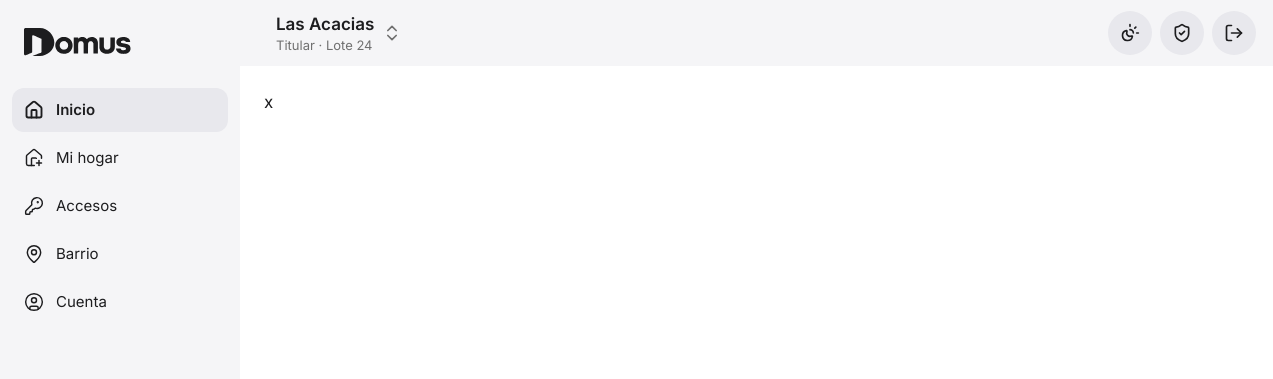
Test: AppShell › lets the user switch context from the top bar
Click the button named "Cambiar de contexto".
click(325, 24)  # box [264,8,1100,58]
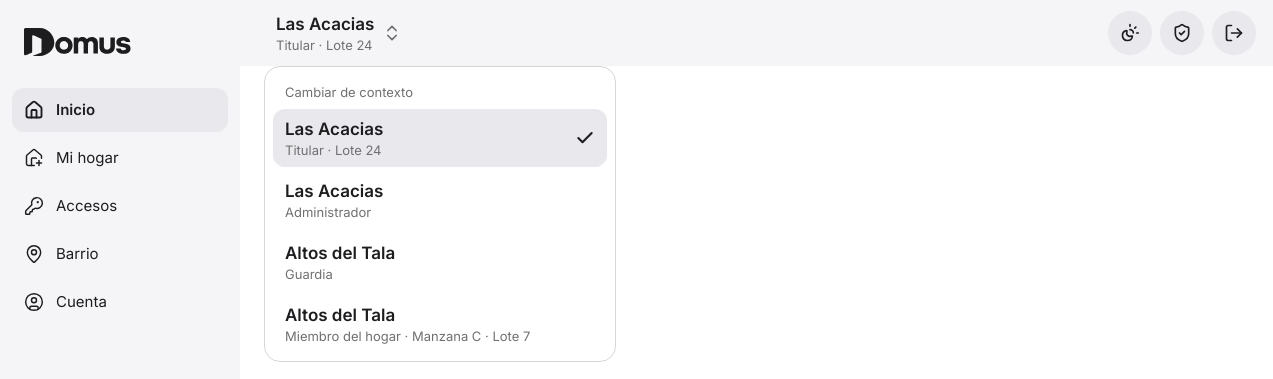
Click the button "Altos del Tala Guardia".
click(340, 253)  # box [273,233,607,291]
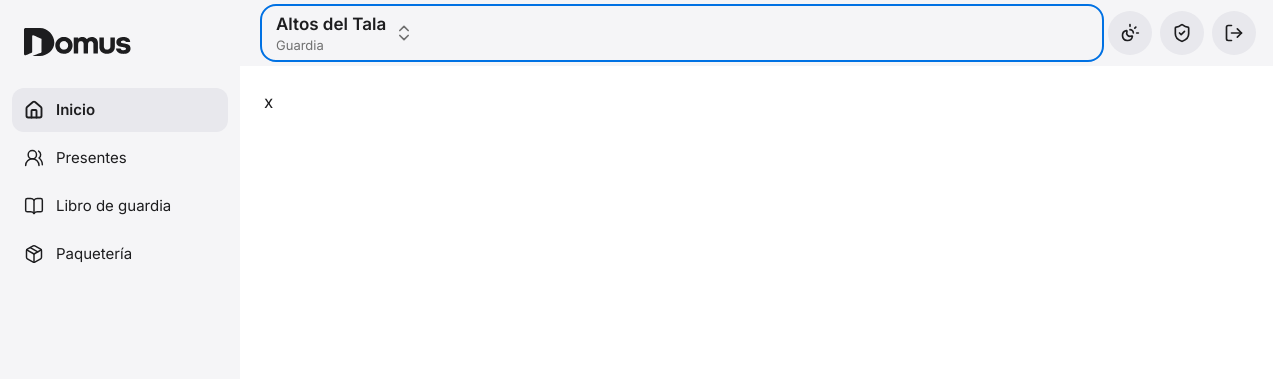
expect the header shows "Altos del Tala": met, box [264,8,1100,58]
expect the header shows "Guardia": met, box [264,8,1100,58]
expect the text "Cambiar de contexto" is gone: met
